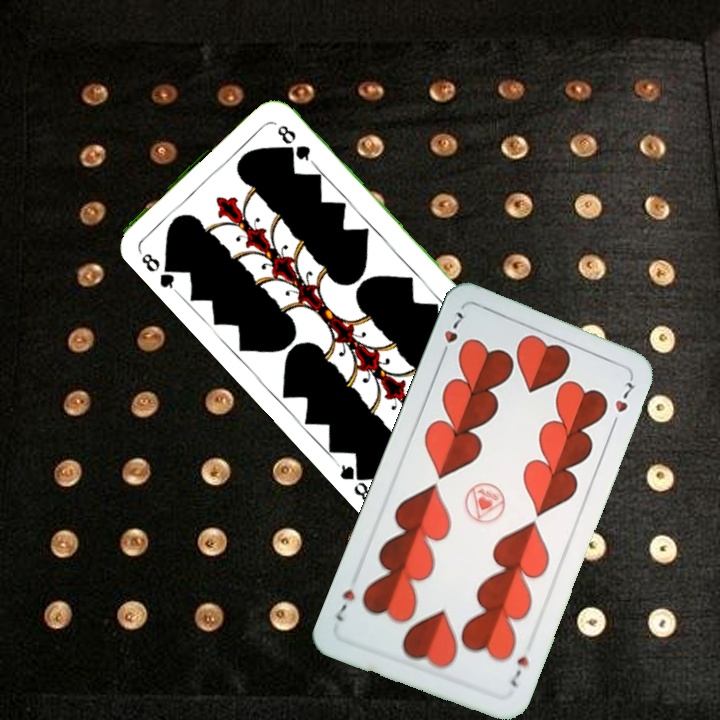G8: (134, 245, 181, 294)
H7: (436, 307, 466, 362), (505, 652, 531, 689)
